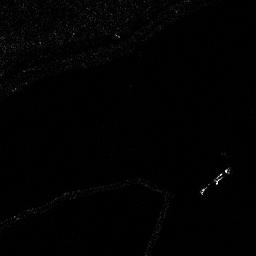ship: (200, 166, 230, 193)
